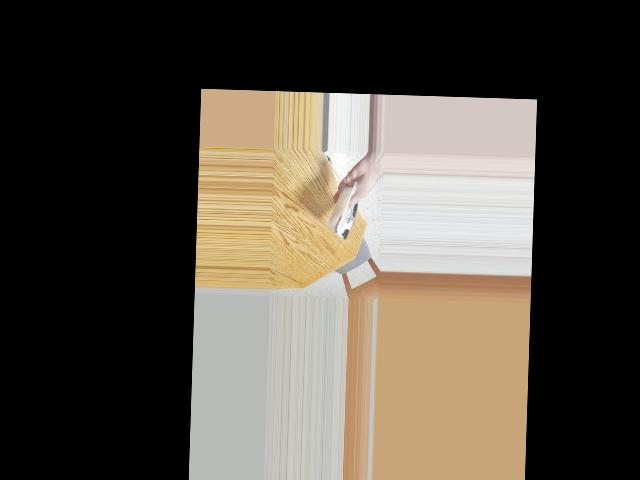cheese: (324, 185, 368, 237)
